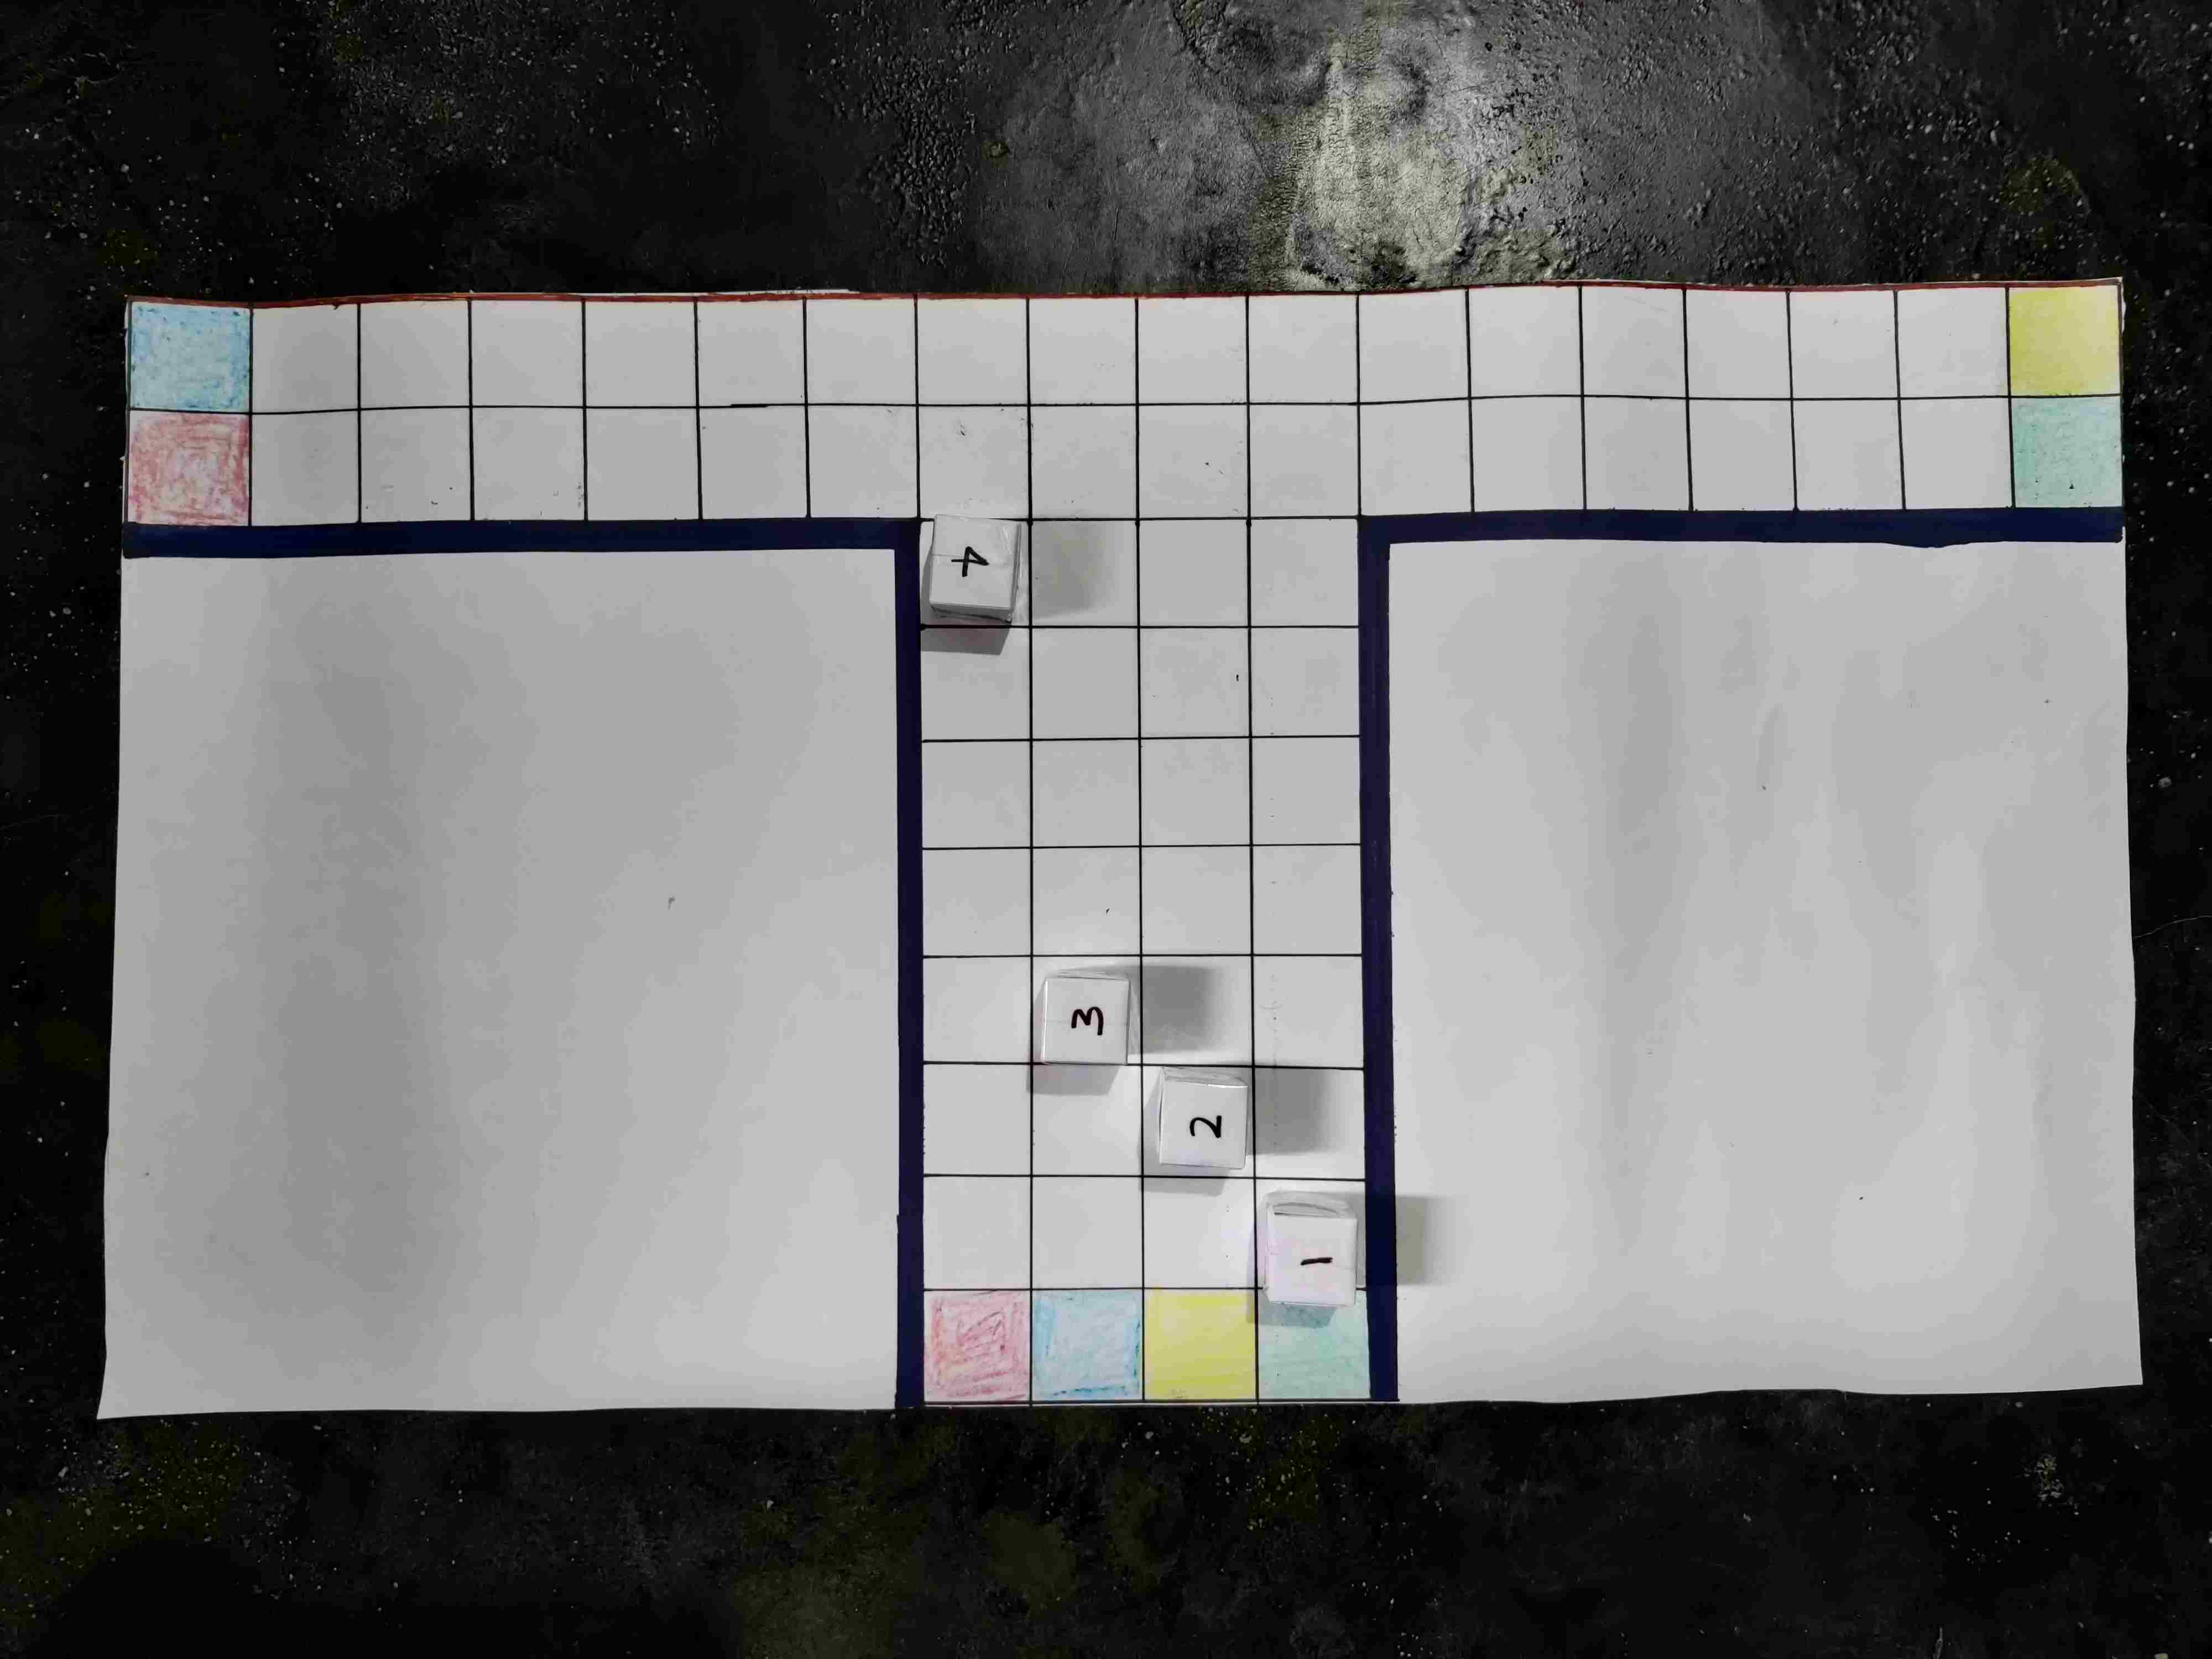arena: (5, 58, 1986, 1101)
bot: (1038, 824, 1134, 906), (406, 948, 489, 1037), (930, 819, 1014, 908), (1811, 899, 1885, 983)
